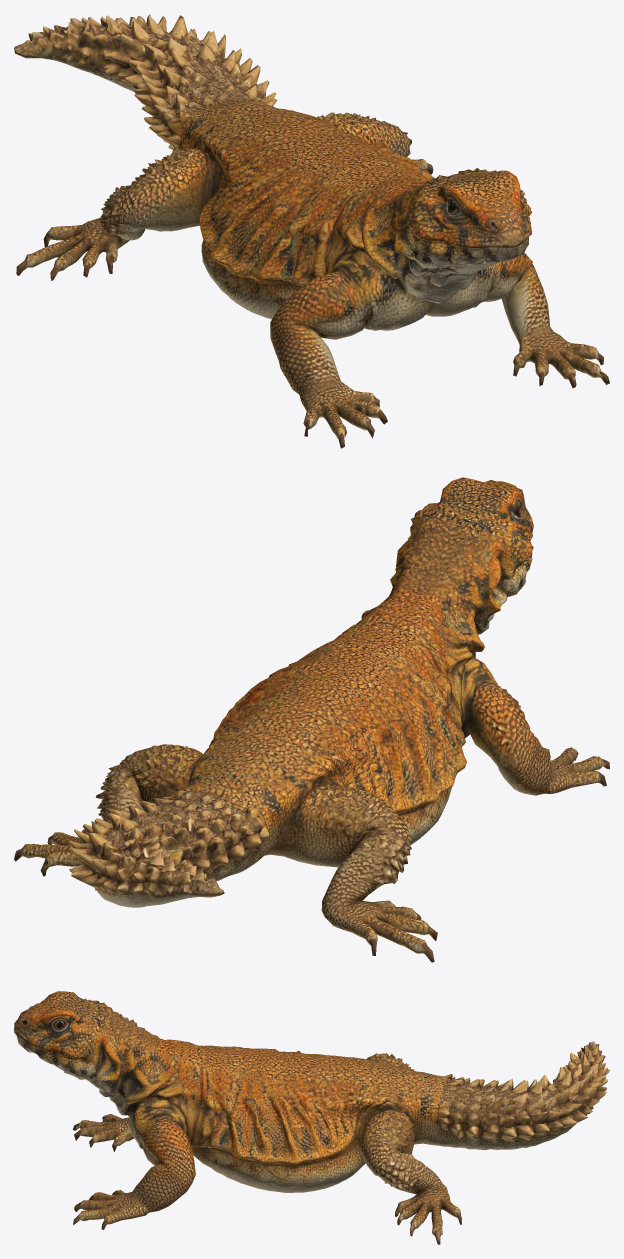
File: uromastyx.glb
3 renders of one model, top to bottom at view 1: azimuth 30°, elevation 25°; view 2: azimuth 150°, elevation 25°; view 3: azimuth 270°, elevation 25°, orthographic. The views are drawn at different scales.
Parts seen in each view (by area): view 1: tripo_node_af82efd5-41b5-4cd9-9edd-846461738a4e; view 2: tripo_node_af82efd5-41b5-4cd9-9edd-846461738a4e; view 3: tripo_node_af82efd5-41b5-4cd9-9edd-846461738a4e.
Part boxes in pixels (left/top/right/bottom): tripo_node_af82efd5-41b5-4cd9-9edd-846461738a4e: left=14, top=14, right=609, bottom=448; tripo_node_af82efd5-41b5-4cd9-9edd-846461738a4e: left=14, top=477, right=609, bottom=962; tripo_node_af82efd5-41b5-4cd9-9edd-846461738a4e: left=14, top=991, right=609, bottom=1244.
Bounding box in the file's own units: 0.5897 × 0.3303 × 1.
1 material, 1 textured.
